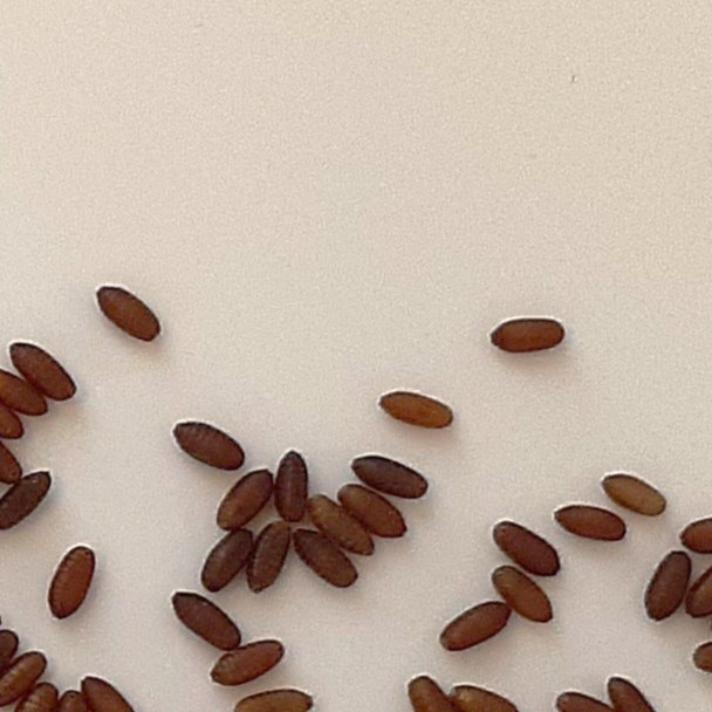pupae: (170, 582, 244, 660), (300, 492, 380, 562), (433, 596, 517, 660), (45, 538, 103, 628), (212, 458, 278, 536), (5, 337, 82, 403), (290, 528, 366, 594), (487, 518, 564, 580), (208, 632, 290, 690), (484, 561, 556, 627), (242, 520, 300, 600), (89, 285, 166, 345), (483, 312, 573, 362), (167, 417, 247, 473), (368, 380, 456, 430), (348, 450, 427, 504), (640, 546, 692, 628), (339, 487, 415, 543), (196, 524, 258, 592), (0, 462, 56, 534), (596, 471, 670, 522), (268, 444, 312, 524), (552, 506, 630, 548), (1, 647, 54, 707), (604, 664, 666, 712), (1, 368, 52, 422), (75, 672, 137, 712), (449, 686, 530, 712), (396, 676, 452, 712), (234, 690, 322, 712), (682, 562, 712, 620), (676, 510, 712, 556), (14, 682, 68, 712), (550, 690, 618, 712), (678, 643, 712, 675), (0, 412, 27, 448)
